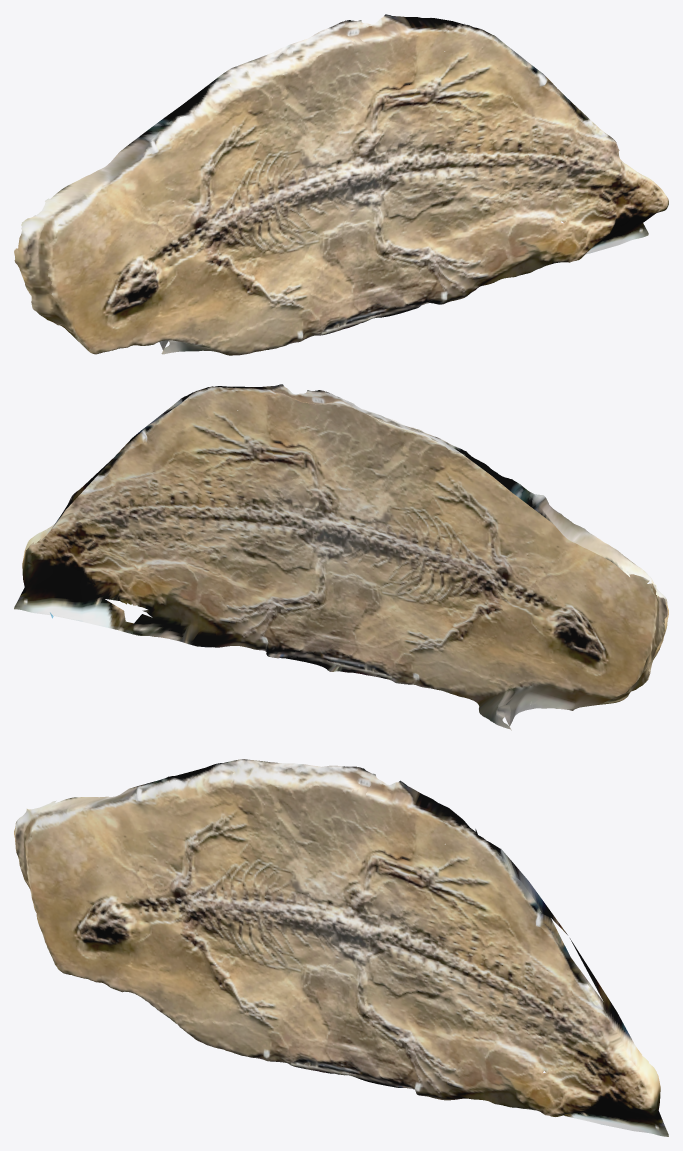
The model's file is montsecosuchus_depereti.glb.
3 views of the same model, one above another, from view 1: azimuth 30°, elevation 25°; view 2: azimuth 150°, elevation 25°; view 3: azimuth 330°, elevation 25° (orthographic). The views are drawn at different scales.
Parts seen in each view (by area): view 1: Object_2; view 2: Object_2; view 3: Object_2.
Boxes of the visible parts, x1=… form: Object_2: x1=14, y1=14, x2=668, y2=355; Object_2: x1=14, y1=384, x2=668, y2=730; Object_2: x1=14, y1=759, x2=668, y2=1136.
Bounding box in the file's own units: 0.6142 × 0.2644 × 0.0399.
Materials: 1 (1 with a texture image).
